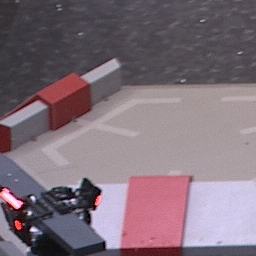Robot: (1, 181, 111, 256)
